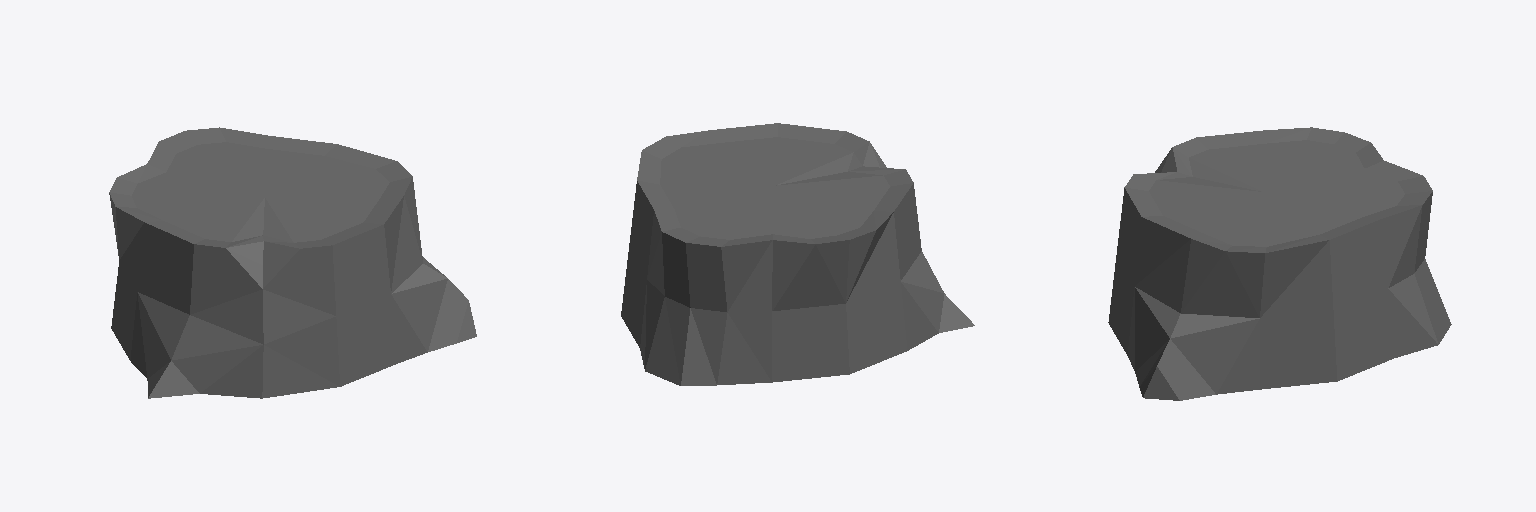
Rendered from Stub_1.obj.
The picture shows the model from 3 angles: view 1: azimuth 30°, elevation 25°; view 2: azimuth 150°, elevation 25°; view 3: azimuth 270°, elevation 25°; orthographic projection.
Visible parts, largest first — view 1: Cylinder008; view 2: Cylinder008; view 3: Cylinder008.
Boxes of the visible parts, x1,y1,x2,y2 form: Cylinder008: [109, 127, 476, 398]; Cylinder008: [621, 123, 974, 385]; Cylinder008: [1108, 127, 1451, 400].
Bounding box in the file's own units: 2.81 × 1.15 × 2.64.